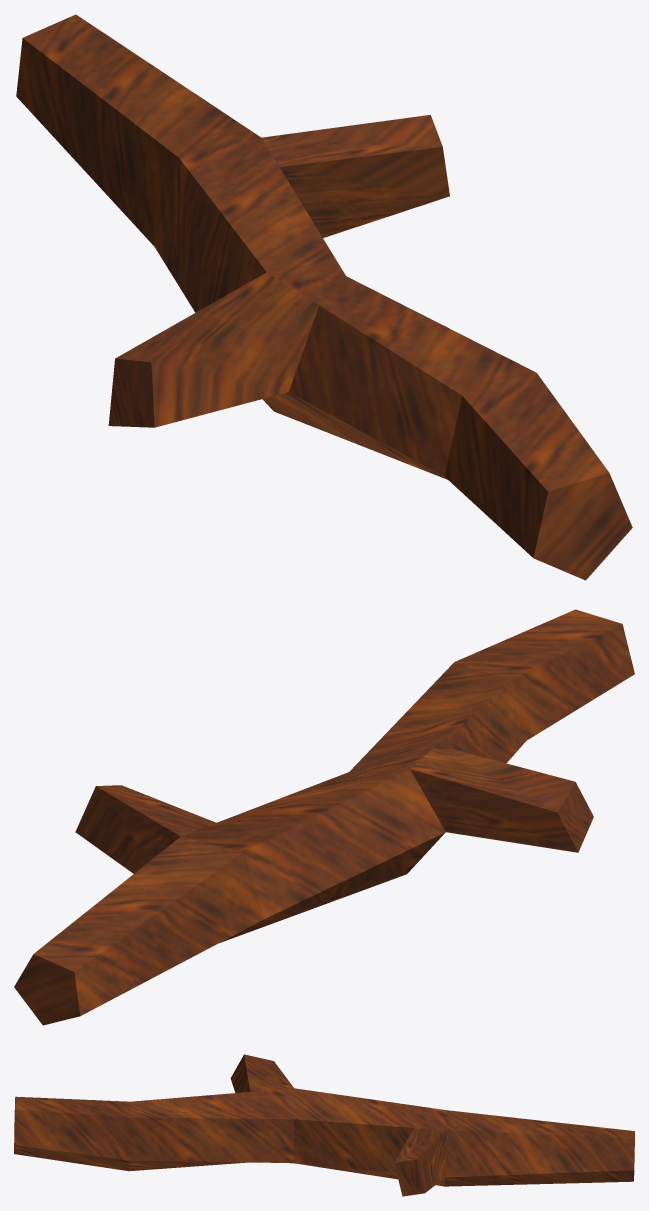
Rendered from branch.obj.
3 renders of one model, top to bottom at view 1: azimuth 30°, elevation 25°; view 2: azimuth 150°, elevation 25°; view 3: azimuth 270°, elevation 25°, orthographic. The views are drawn at different scales.
Parts seen in each view (by area): view 1: Cone; view 2: Cone; view 3: Cone.
Part boxes in pixels (box(x1,y1,x2,y2)): Cone: box(16, 14, 632, 580); Cone: box(14, 609, 634, 1025); Cone: box(14, 1054, 634, 1196).
Size of the model in its own units: 3.41 by 0.9574 by 7.42.
1 material, 1 textured.
